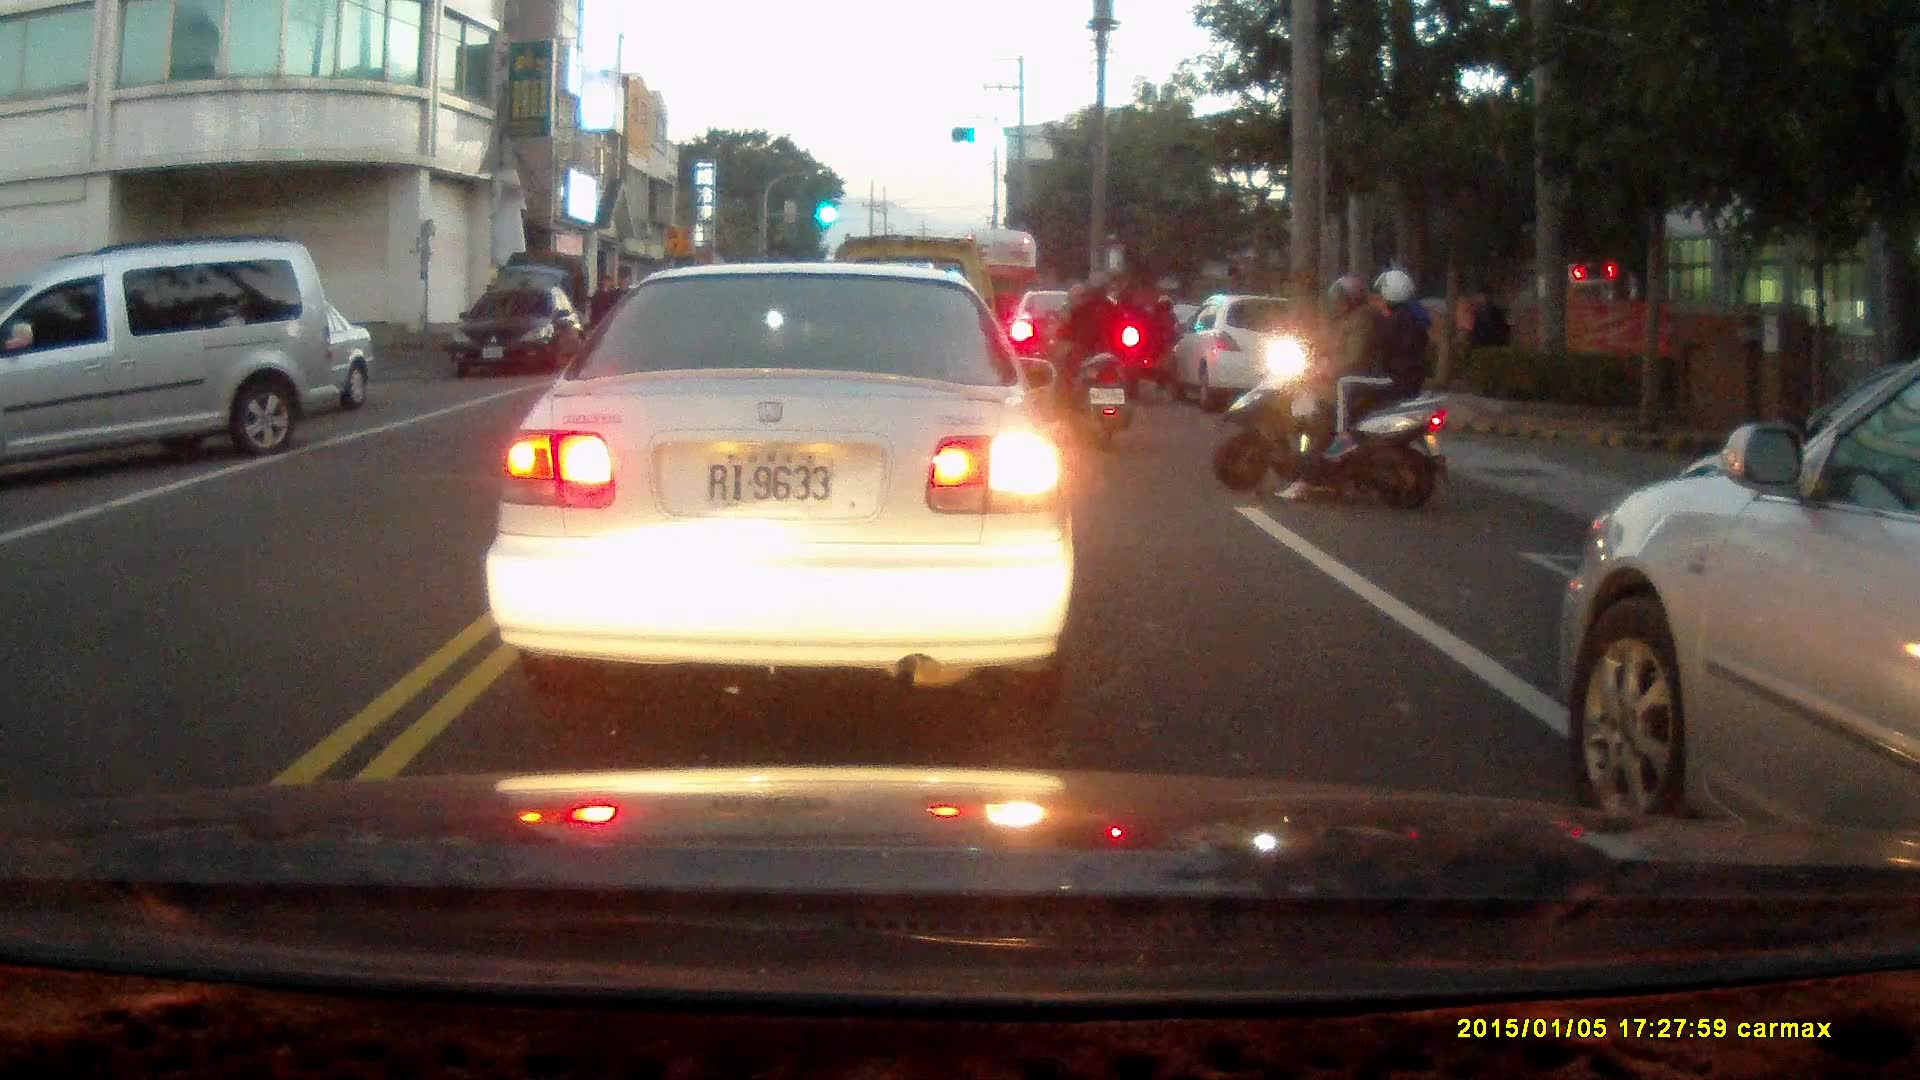pedestrian: (1465, 279, 1509, 377), (588, 274, 622, 361)
rider: (1205, 270, 1445, 513), (1043, 267, 1130, 451), (1145, 295, 1179, 388)
vehicle: (504, 261, 1068, 676), (1557, 332, 1919, 852), (1, 243, 354, 481), (1164, 293, 1326, 410), (1005, 288, 1142, 399), (456, 284, 585, 379)
